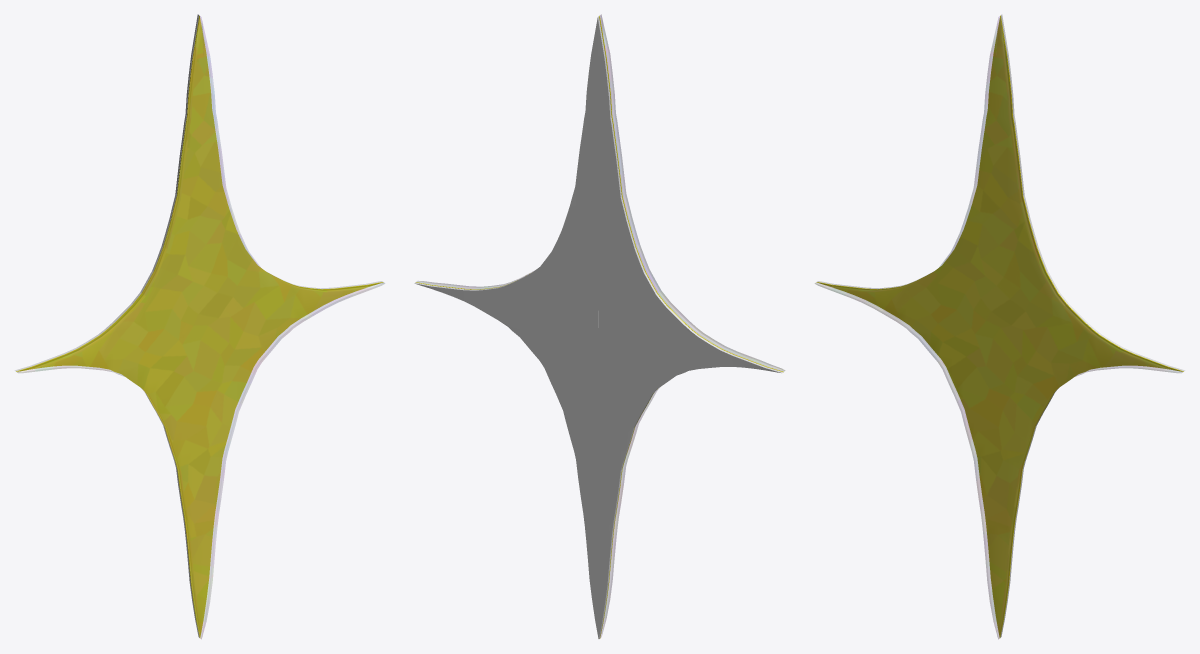
The model's file is star_holo.glb.
The picture shows the model from 3 angles, left to right: view 1: azimuth 30°, elevation 25°; view 2: azimuth 150°, elevation 25°; view 3: azimuth 330°, elevation 25°; orthographic projection.
Visible parts, largest first — view 1: 平面, 平面.002, 平面.001; view 2: 平面.001, 平面, 平面.002; view 3: 平面, 平面.002, 平面.001.
Part boxes in pixels (box(x1,y1,x2,y2)): 平面: box(17, 16, 384, 639); 平面.002: box(16, 15, 383, 638); 平面.001: box(14, 14, 382, 637); 平面.001: box(414, 16, 782, 638); 平面: box(417, 14, 784, 637); 平面.002: box(416, 16, 783, 638); 平面: box(815, 16, 1182, 639); 平面.002: box(816, 15, 1183, 638); 平面.001: box(817, 14, 1185, 637).
Size of the model in its own units: 2.45 by 3.97 by 0.0702.
3 materials, 1 textured.
